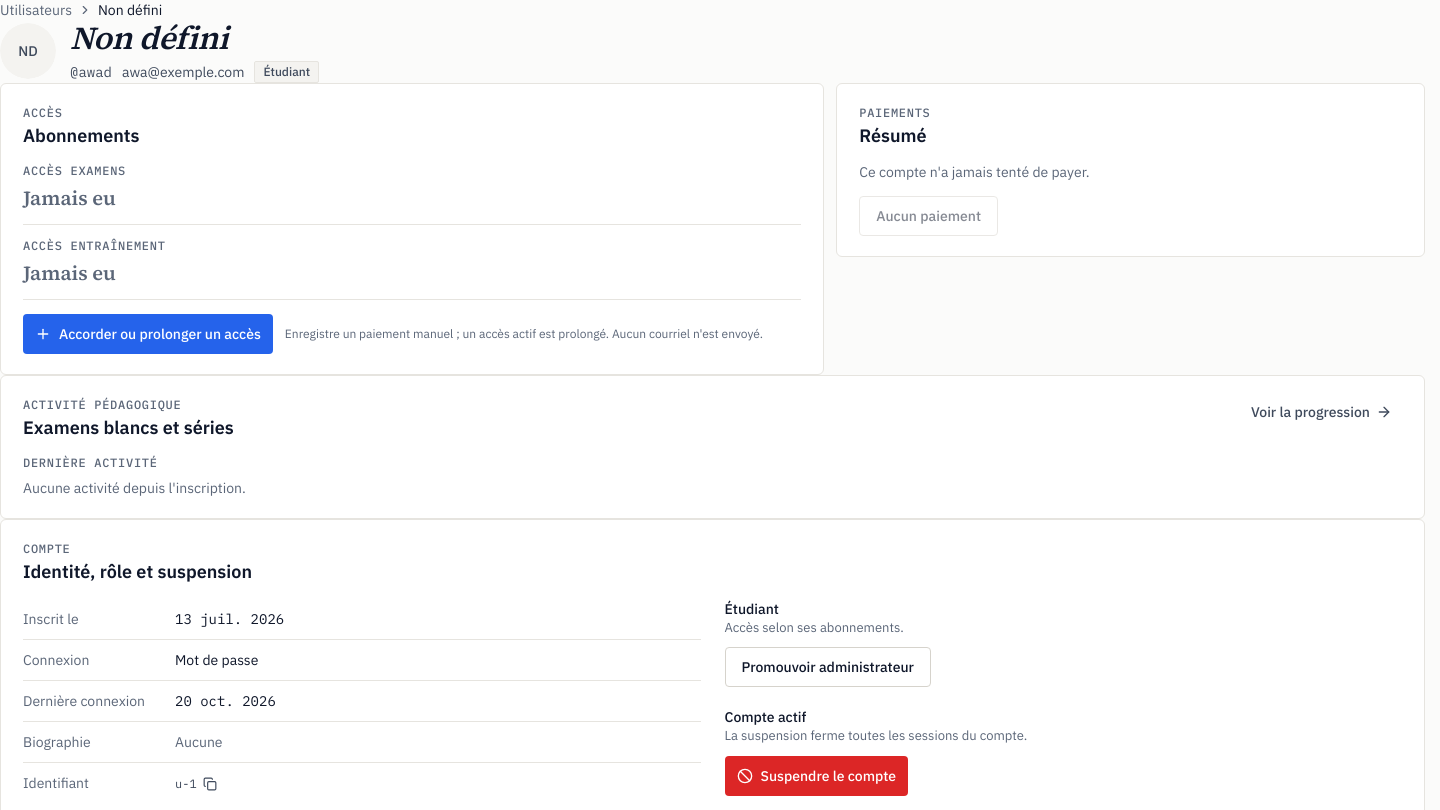
UserFileClient — accès › compte sans nom : la saisie le désigne par son courriel
The width and height of the screenshot is (1440, 810).
Click the button with test id "grant-access".
click(148, 334)  # box [23, 314, 273, 354]
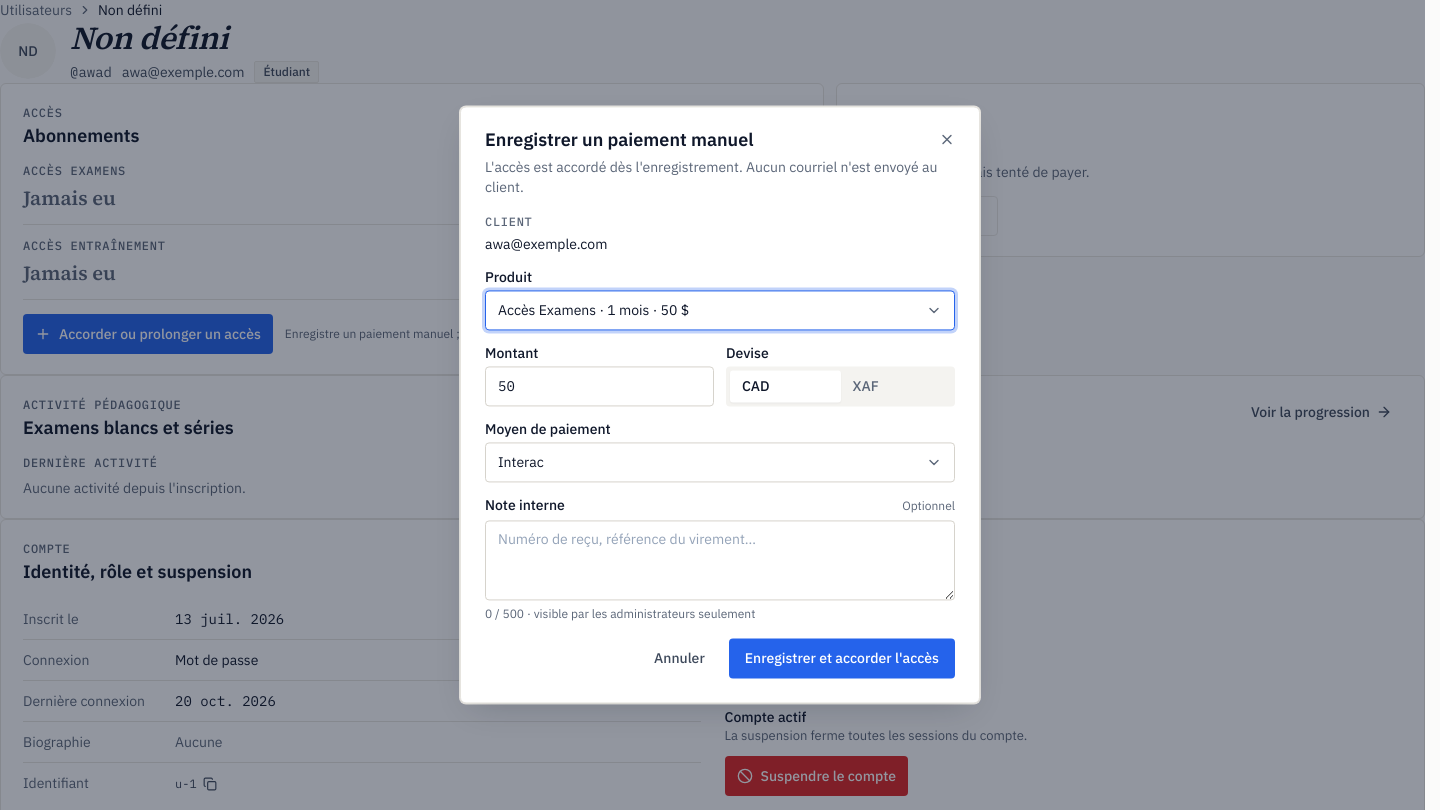
Expected: the text "awa@exemple.com" is shown, [485, 236, 607, 254]
